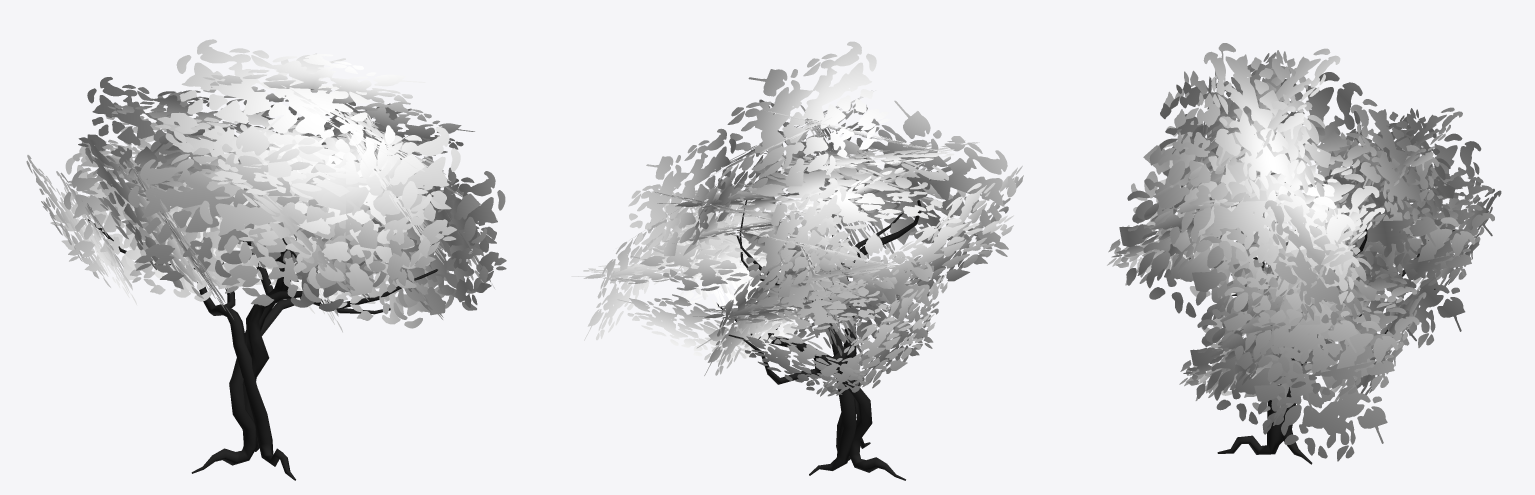
The model's file is BIZZARE_tree2.fbx.
3 renders of one model, left to right at view 1: azimuth 30°, elevation 25°; view 2: azimuth 150°, elevation 25°; view 3: azimuth 270°, elevation 25°, orthographic. The views are drawn at different scales.
Parts seen in each view (by area): view 1: Leaves2, Trunk2; view 2: Leaves2, Trunk2; view 3: Leaves2, Trunk2.
Boxes of the visible parts, box(x1,y1,x2,y2) form: Leaves2: box(26, 39, 506, 332); Trunk2: box(85, 219, 437, 480); Leaves2: box(571, 41, 1023, 396); Trunk2: box(717, 200, 921, 480); Leaves2: box(1107, 43, 1501, 461); Trunk2: box(1181, 185, 1454, 464).
Size of the model in its own units: 8.96 by 8.36 by 7.78.
